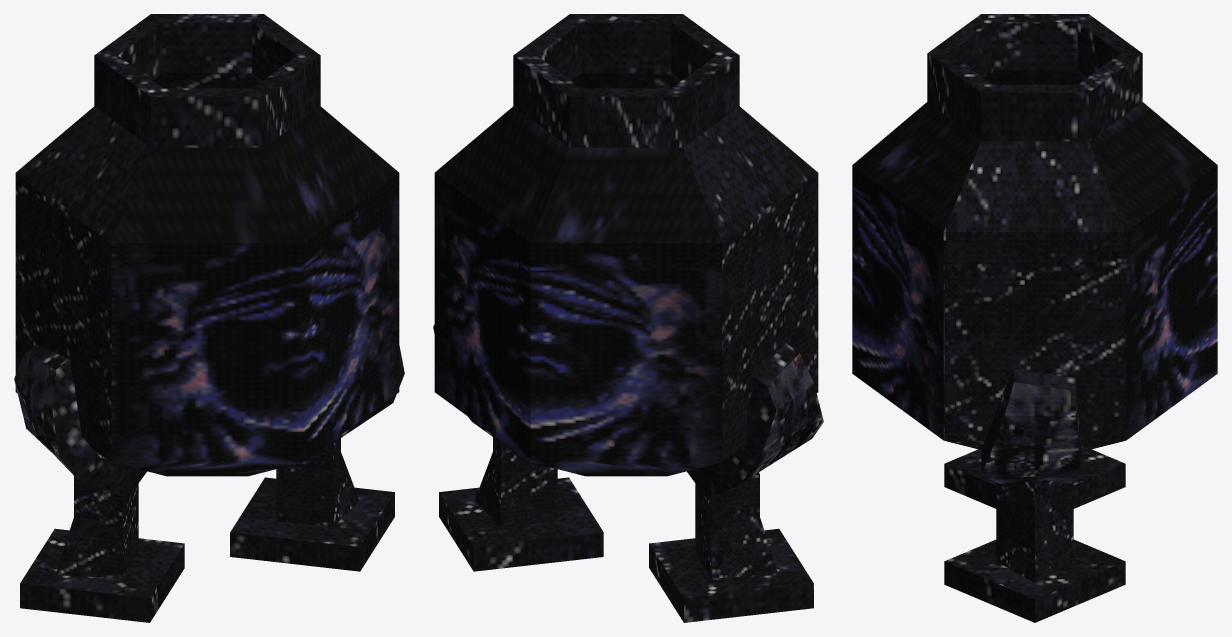
Rendered from vase.fbx.
The picture shows the model from 3 angles, left to right: view 1: azimuth 30°, elevation 25°; view 2: azimuth 150°, elevation 25°; view 3: azimuth 270°, elevation 25°; orthographic projection. The views are drawn at different scales.
Parts seen in each view (by area): view 1: vase; view 2: vase; view 3: vase.
Boxes of the visible parts, bbox=[...] form: vase: bbox=[14, 14, 404, 622]; vase: bbox=[433, 14, 823, 622]; vase: bbox=[852, 14, 1217, 622].
Size of the model in its own units: 129 by 166 by 114.
